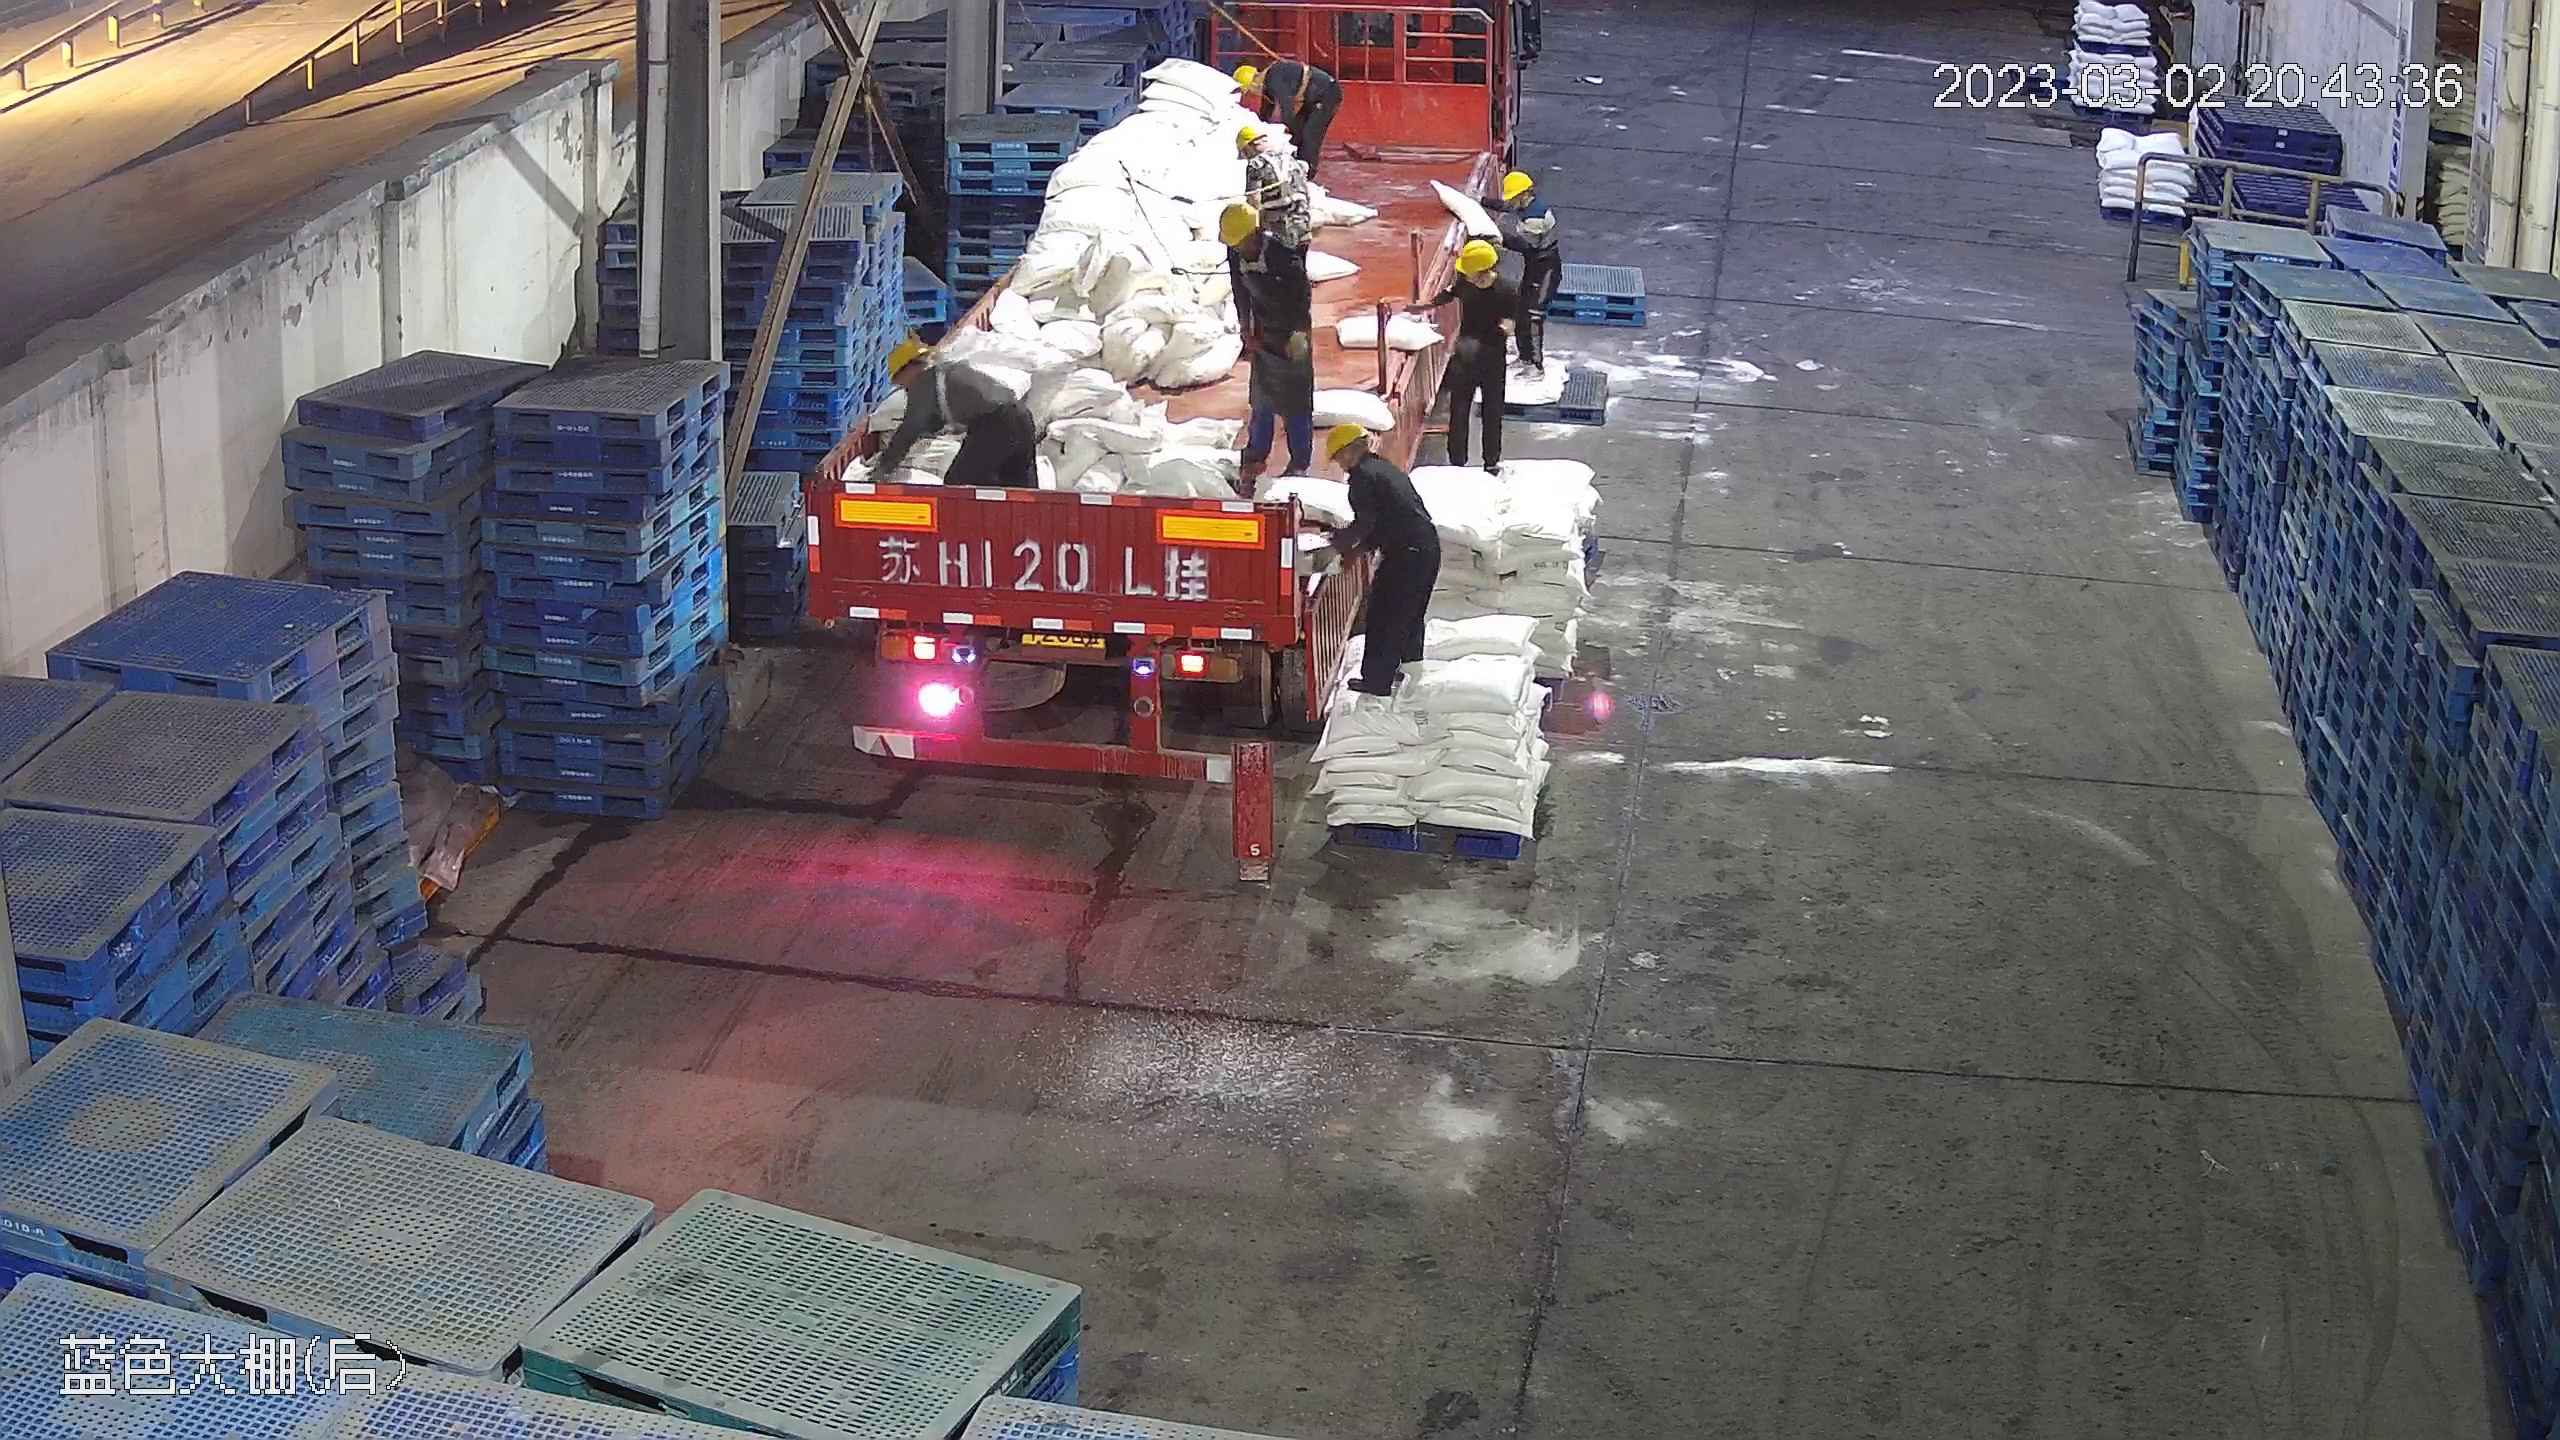belt: (938, 343, 1009, 419), (1244, 162, 1295, 216), (1264, 59, 1318, 109), (1235, 238, 1273, 278)
head: (1318, 420, 1417, 518), (885, 336, 989, 426), (1219, 198, 1308, 287), (1441, 237, 1520, 323), (1232, 122, 1307, 194), (1492, 168, 1557, 243), (1231, 60, 1303, 112)
helmet: (1319, 418, 1371, 465), (1215, 199, 1261, 244), (888, 336, 932, 384), (1453, 237, 1501, 277), (1499, 169, 1534, 204), (1229, 62, 1261, 94), (1234, 121, 1265, 150)
people: (1308, 417, 1440, 703), (862, 337, 1048, 496), (1222, 196, 1315, 474), (1422, 236, 1526, 473), (1480, 161, 1565, 383), (1233, 53, 1343, 184), (1234, 127, 1316, 248)
truck: (825, 39, 1526, 797)
